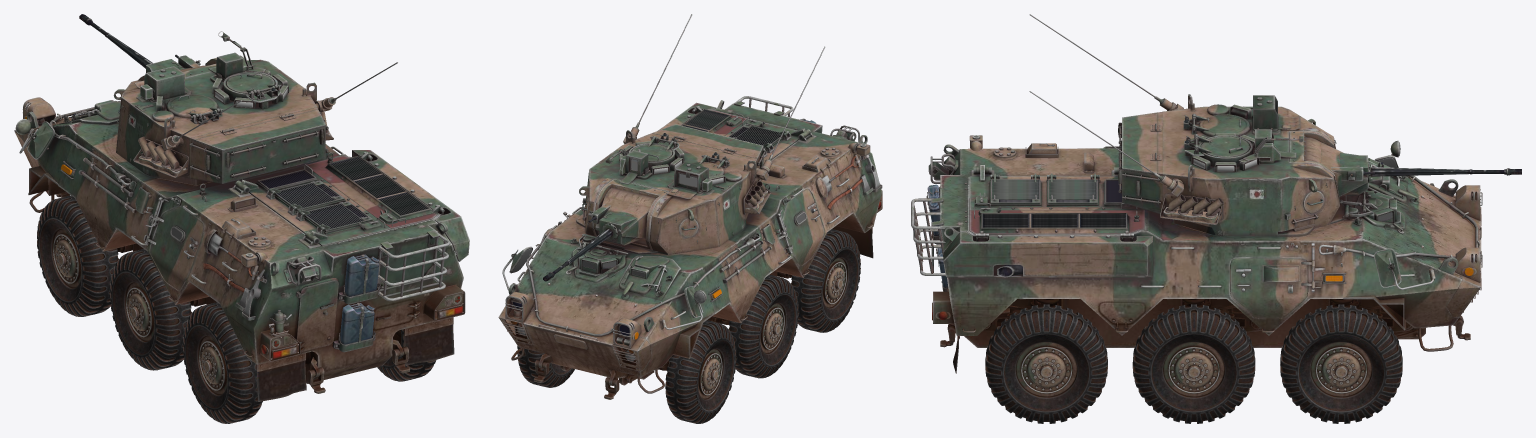
Rendered from type87rcv.glb.
3 renders of one model, left to right at view 1: azimuth 30°, elevation 25°; view 2: azimuth 150°, elevation 25°; view 3: azimuth 270°, elevation 25°, orthographic. The views are drawn at different scales.
Parts seen in each view (by area): view 1: V_type87rcv__Body_4, V_type87rcv__Body_2, V_type87rcv__Turret_1, V_type87rcv__Body_1, V_type87rcv__W02_2, V_type87rcv__W04_2, V_type87rcv__W06_2, V_type87rcv__Body_5, V_type87rcv__Body_3, V_type87rcv__W05_2, V_type87rcv__Gun_2, V_type87rcv__Turret_2 (+1 smaller); view 2: V_type87rcv__Body_4, V_type87rcv__Turret_1, V_type87rcv__Body_2, V_type87rcv__W02_2, V_type87rcv__W06_2, V_type87rcv__W04_2, V_type87rcv__Body_1, V_type87rcv__Body_5, V_type87rcv__Turret_3, V_type87rcv__W01_2, V_type87rcv__Gun_2, V_type87rcv__Turret_2; view 3: V_type87rcv__Body_4, V_type87rcv__Turret_1, V_type87rcv__Body_2, V_type87rcv__Body_1, V_type87rcv__W03_2, V_type87rcv__W01_2, V_type87rcv__W05_2, V_type87rcv__Body_5, V_type87rcv__Gun_2, V_type87rcv__Turret_3, V_type87rcv__Body_3, V_type87rcv__Turret_2.
Part boxes in pixels (box(x1,y1,x2,y2)): V_type87rcv__Body_4: box(15, 100, 463, 383); V_type87rcv__Body_2: box(14, 100, 465, 401); V_type87rcv__Turret_1: box(116, 31, 397, 191); V_type87rcv__Body_1: box(23, 97, 469, 393); V_type87rcv__W02_2: box(37, 195, 118, 316); V_type87rcv__W04_2: box(110, 249, 191, 370); V_type87rcv__W06_2: box(183, 302, 262, 423); V_type87rcv__Body_5: box(22, 111, 463, 359); V_type87rcv__Body_3: box(378, 232, 450, 301); V_type87rcv__W05_2: box(377, 329, 436, 381); V_type87rcv__Gun_2: box(79, 14, 200, 68); V_type87rcv__Turret_2: box(138, 55, 330, 176); V_type87rcv__Body_4: box(502, 103, 881, 379); V_type87rcv__Turret_1: box(576, 14, 825, 254); V_type87rcv__Body_2: box(498, 98, 882, 385); V_type87rcv__W02_2: box(665, 320, 736, 423); V_type87rcv__W06_2: box(791, 229, 860, 332); V_type87rcv__W04_2: box(729, 274, 798, 378); V_type87rcv__Body_1: box(505, 102, 862, 399); V_type87rcv__Body_5: box(511, 112, 866, 361); V_type87rcv__Turret_3: box(579, 178, 741, 250); V_type87rcv__W01_2: box(517, 346, 574, 387); V_type87rcv__Gun_2: box(543, 204, 620, 281); V_type87rcv__Turret_2: box(619, 140, 767, 211); V_type87rcv__Body_4: box(932, 140, 1482, 347); V_type87rcv__Turret_1: box(1029, 14, 1367, 236); V_type87rcv__Body_2: box(912, 135, 1481, 373); V_type87rcv__Body_1: box(930, 154, 1480, 351); V_type87rcv__W03_2: box(1132, 304, 1255, 423); V_type87rcv__W01_2: box(1280, 304, 1402, 423); V_type87rcv__W05_2: box(985, 304, 1107, 423); V_type87rcv__Body_5: box(932, 135, 1479, 312); V_type87rcv__Gun_2: box(1331, 161, 1521, 204); V_type87rcv__Turret_3: box(1117, 119, 1340, 213); V_type87rcv__Body_3: box(911, 198, 951, 275); V_type87rcv__Turret_2: box(1163, 140, 1280, 223).
Size of the model in its own units: 7.39 by 9.53 by 16.26.
Materials: 3 (3 with a texture image).
